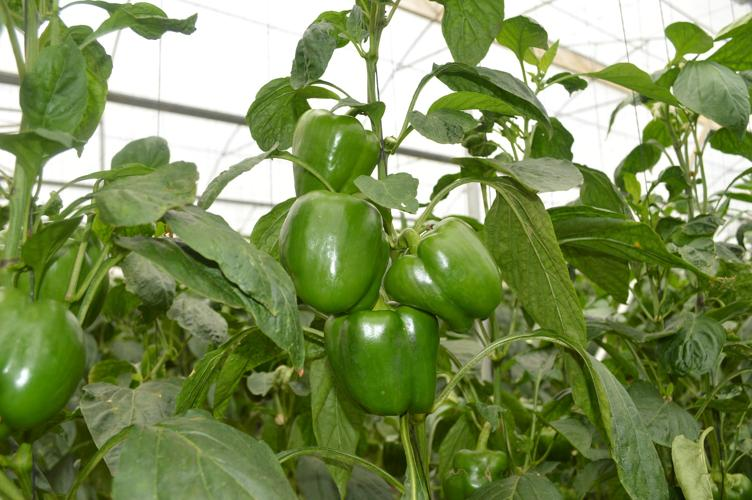BellPepper: (312, 308, 441, 427), (264, 189, 382, 312), (386, 211, 500, 335), (3, 292, 80, 436), (272, 102, 386, 195)
